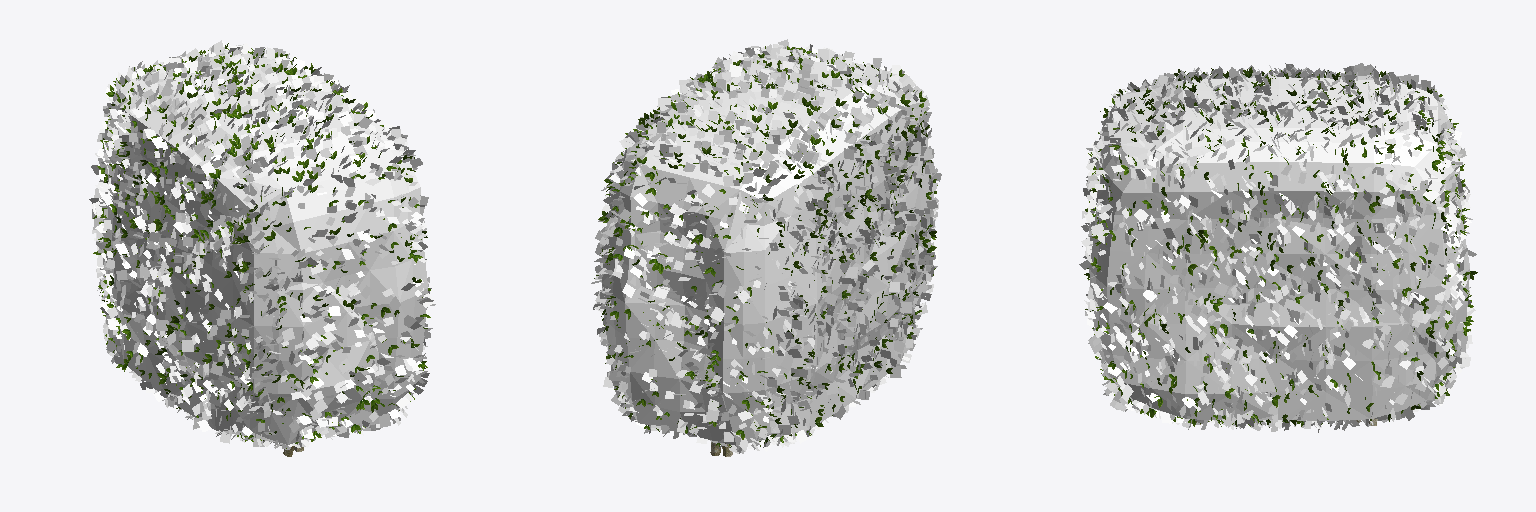
The picture shows the model from 3 angles: view 1: azimuth 30°, elevation 25°; view 2: azimuth 150°, elevation 25°; view 3: azimuth 270°, elevation 25°; orthographic projection.
Parts seen in each view (by area): view 1: Hedge_Hero_23_Mesh.002; view 2: Hedge_Hero_23_Mesh.002; view 3: Hedge_Hero_23_Mesh.002.
Part boxes in pixels (left/top/right/bottom): Hedge_Hero_23_Mesh.002: left=89, top=40, right=435, bottom=456; Hedge_Hero_23_Mesh.002: left=591, top=39, right=941, bottom=456; Hedge_Hero_23_Mesh.002: left=1079, top=63, right=1477, bottom=432.
Size of the model in its own units: 0.71 by 1.06 by 1.16.
5 materials, 2 textured.